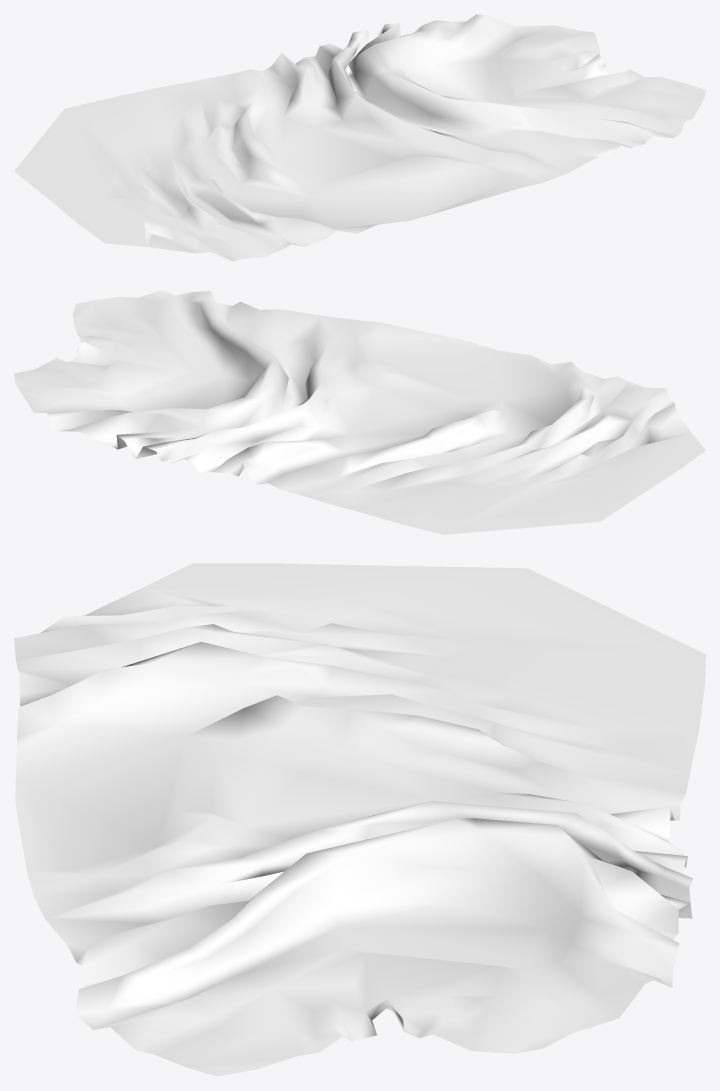
Rendered from Rug1.fbx.
3 renders of one model, top to bottom at view 1: azimuth 30°, elevation 25°; view 2: azimuth 150°, elevation 25°; view 3: azimuth 270°, elevation 25°, orthographic. The views are drawn at different scales.
Parts seen in each view (by area): view 1: Rug1; view 2: Rug1; view 3: Rug1.
Part boxes in pixels (bbox=[...]): Rug1: bbox=[14, 14, 705, 261]; Rug1: bbox=[14, 290, 705, 534]; Rug1: bbox=[14, 563, 705, 1076].
Size of the model in its own units: 189 by 9.33 by 107.
Materials: 1 (1 with a texture image).
